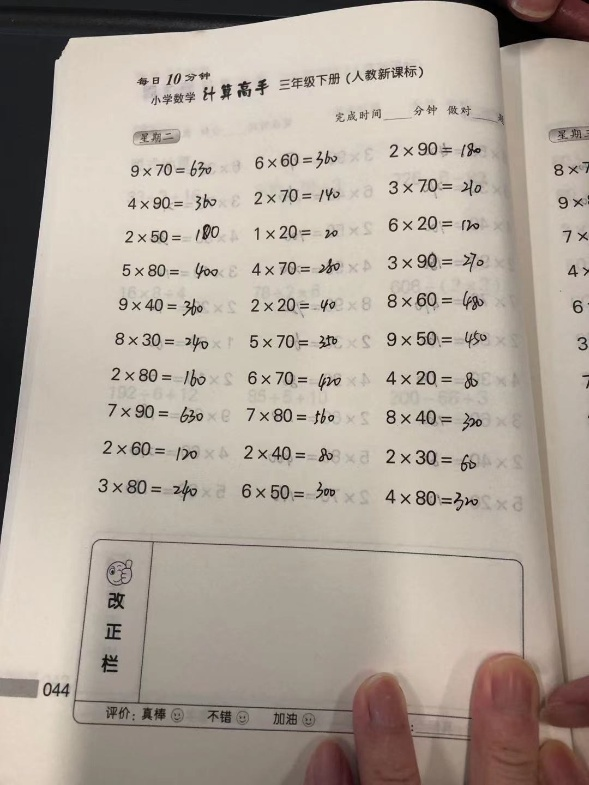equation: (101, 364, 230, 396), (376, 403, 501, 436), (376, 328, 512, 358), (117, 221, 241, 252), (241, 364, 363, 395), (104, 328, 230, 358), (97, 398, 215, 429), (384, 248, 506, 277), (95, 476, 220, 504), (376, 175, 498, 203), (107, 259, 230, 286), (102, 437, 209, 468), (386, 136, 495, 166), (113, 292, 222, 321), (372, 289, 496, 314), (382, 367, 495, 394), (233, 478, 350, 504), (237, 403, 347, 430), (243, 256, 356, 282), (381, 484, 489, 511), (249, 183, 352, 210), (380, 213, 495, 237), (238, 328, 348, 353), (241, 440, 345, 466), (115, 158, 222, 183), (382, 446, 491, 470), (245, 220, 350, 244), (118, 191, 225, 213), (250, 150, 351, 172), (244, 295, 347, 315)
